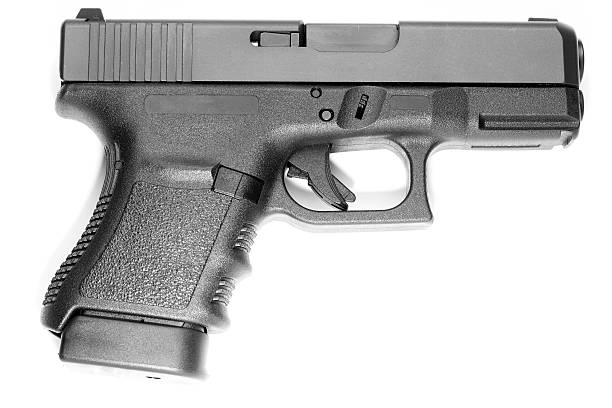pistol: (34, 6, 592, 384)
